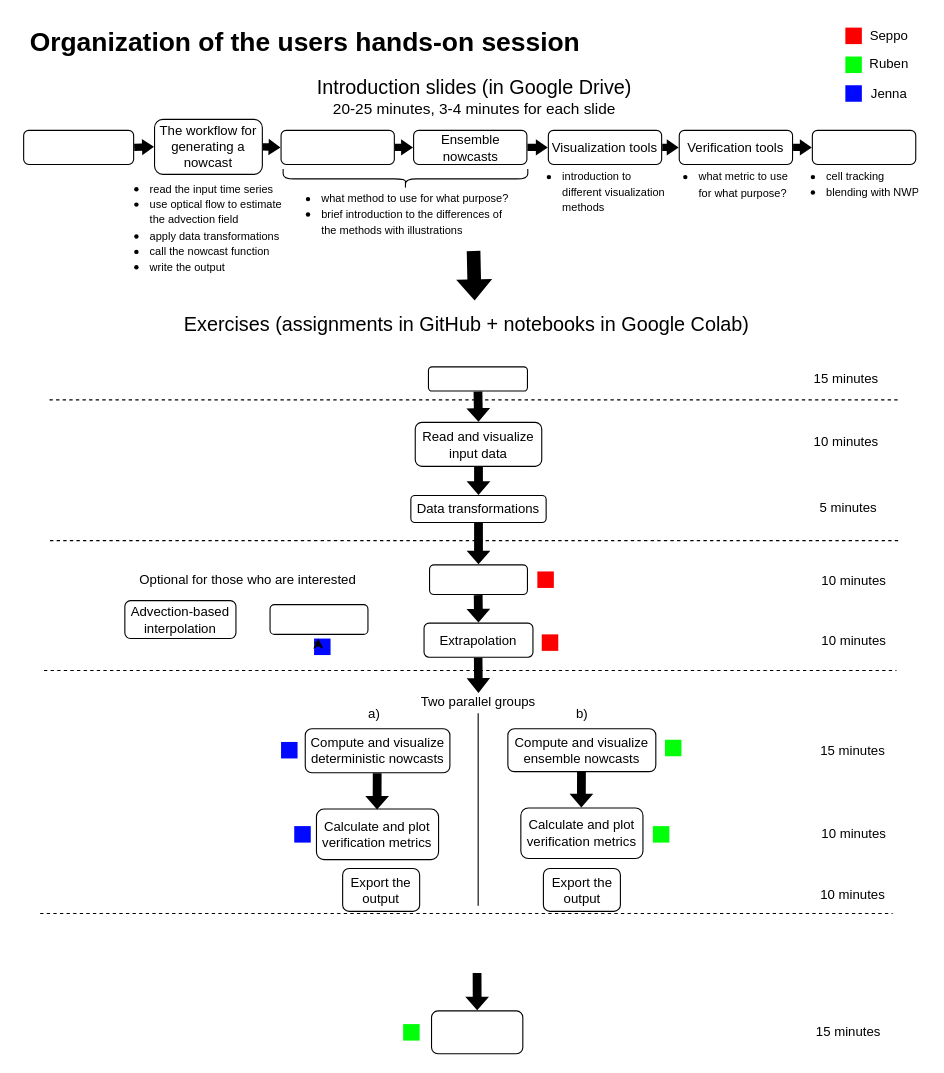
This 944x1073 diagram has some shape labels left out. The shapes that lost their labels are listed below. From the top down, each one's box as (x1, y1, x2, y2) in pixels, then its label:
(23, 129, 134, 164): Overview of pysteps modules
(280, 129, 394, 164): Deterministic nowcasts
(811, 129, 916, 164): More advanced functionality
(427, 366, 527, 391): Install pysteps
(428, 564, 527, 595): Optical flow
(269, 604, 368, 634): Cell tracking
(430, 1010, 523, 1054): Blending with NWP
